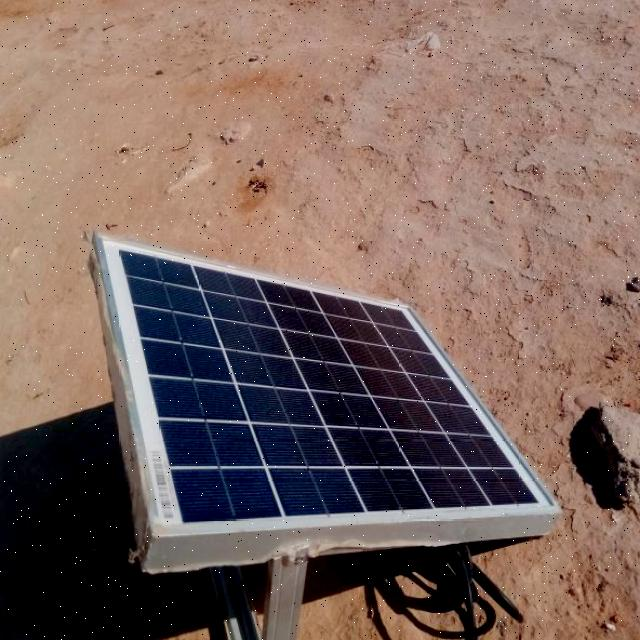Normal Solar Panel: (95, 238, 555, 538)
